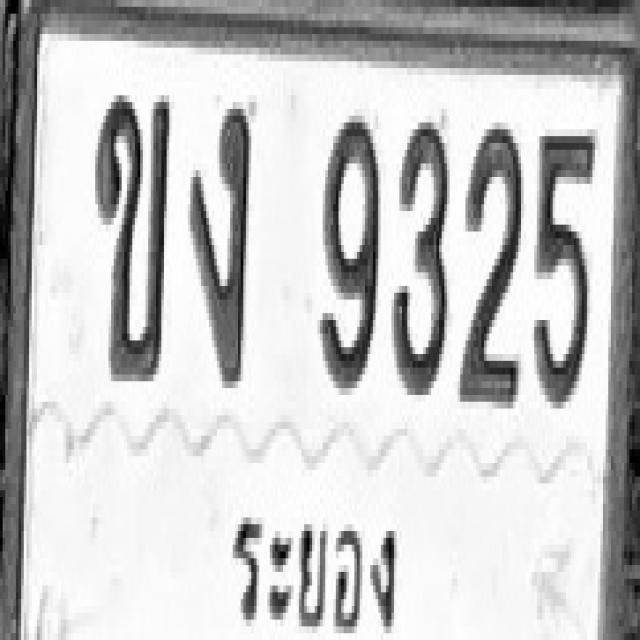11KhorKhai: (94, 85, 170, 378)
16NgorNgu: (189, 102, 250, 381)
2: (459, 119, 522, 405)
3: (392, 112, 449, 392)
5: (533, 126, 594, 405)
9: (320, 109, 378, 388)
Rayong: (231, 493, 405, 636)
